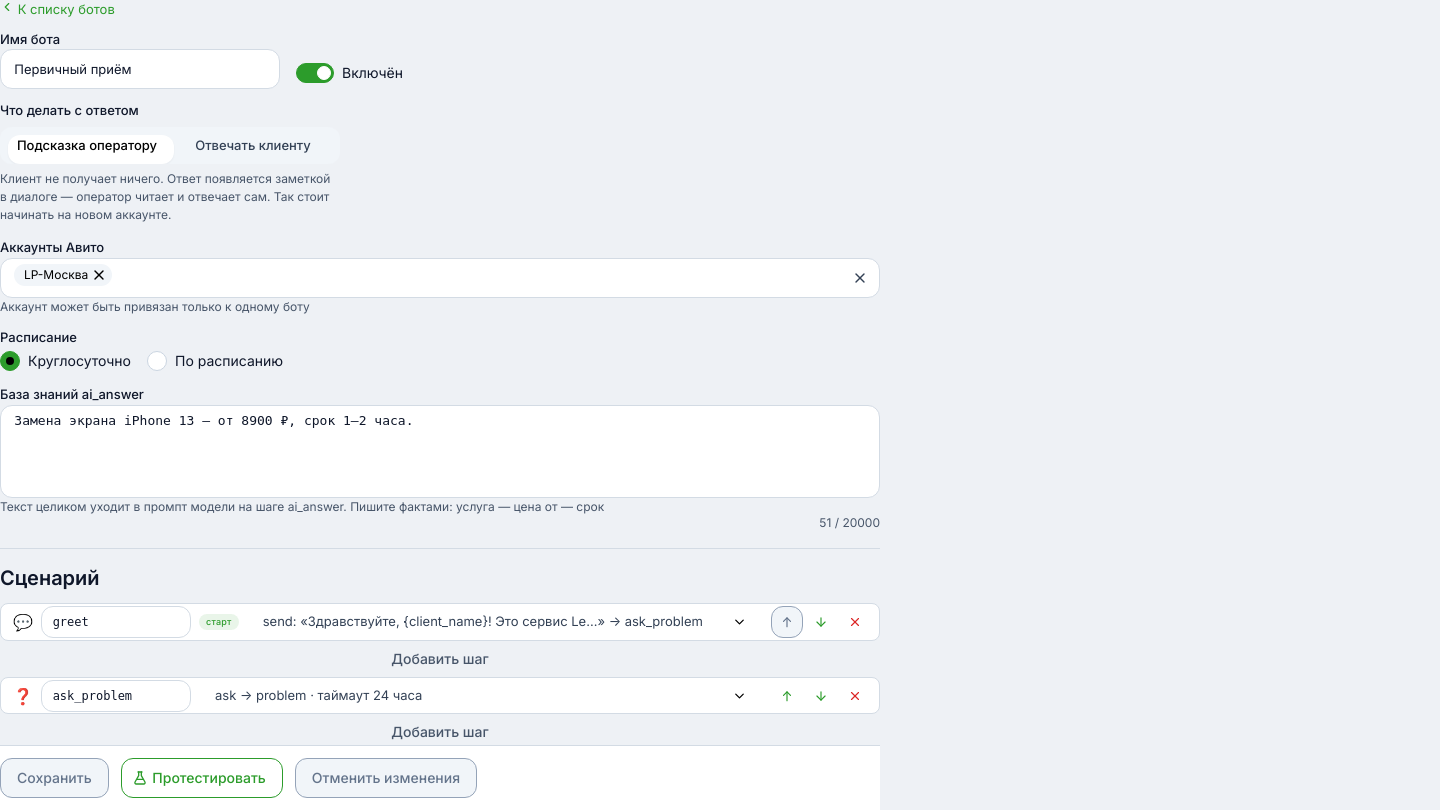
Редактор бота — уход с несохранённым сценарием › «К списку ботов» с несохранённым спрашивает, «Остаться» держит на странице
The image size is (1440, 810).
Type " — правка" into the field labelled "Имя бота" at (140, 69), box [0, 49, 280, 89]
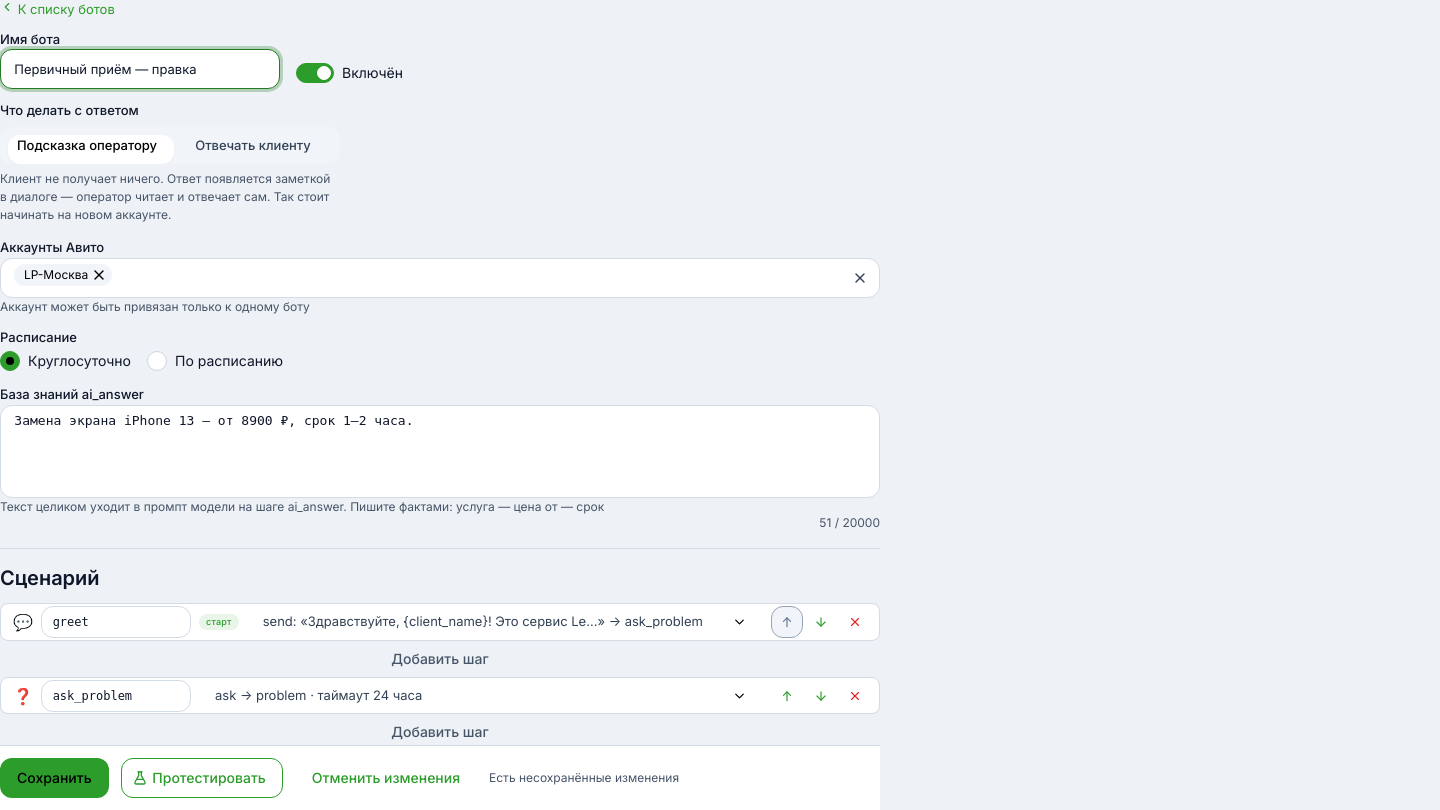
Check: the text "Есть несохранённые изменения" is shown, box [489, 769, 679, 787]
Click the link "К списку ботов" at (57, 8), box [0, 0, 115, 17]
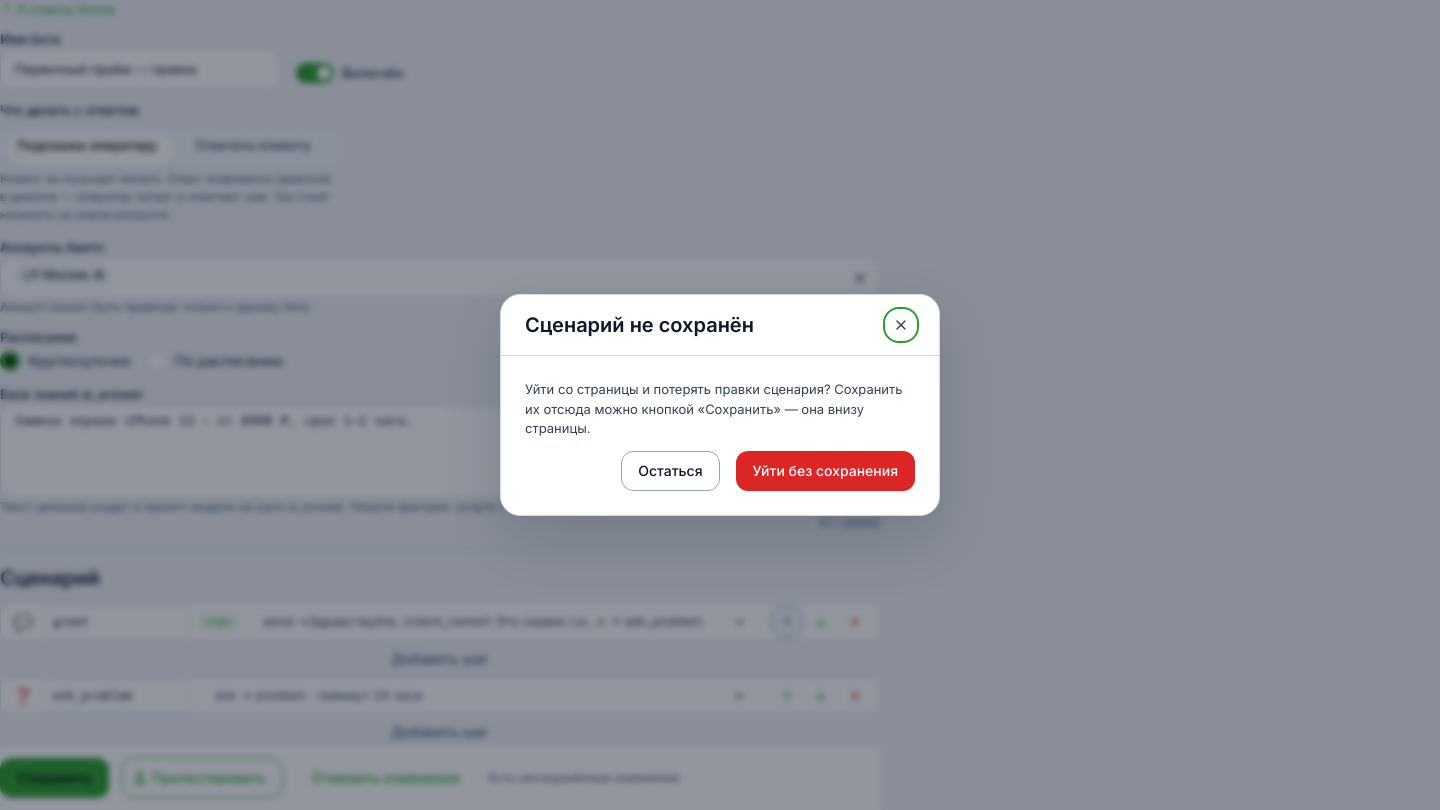
Check: the text "Уйти со страницы и потерять правки сценария?" is shown, box [525, 381, 903, 436]
Click the button "Остаться" at (670, 471), box [621, 451, 720, 491]
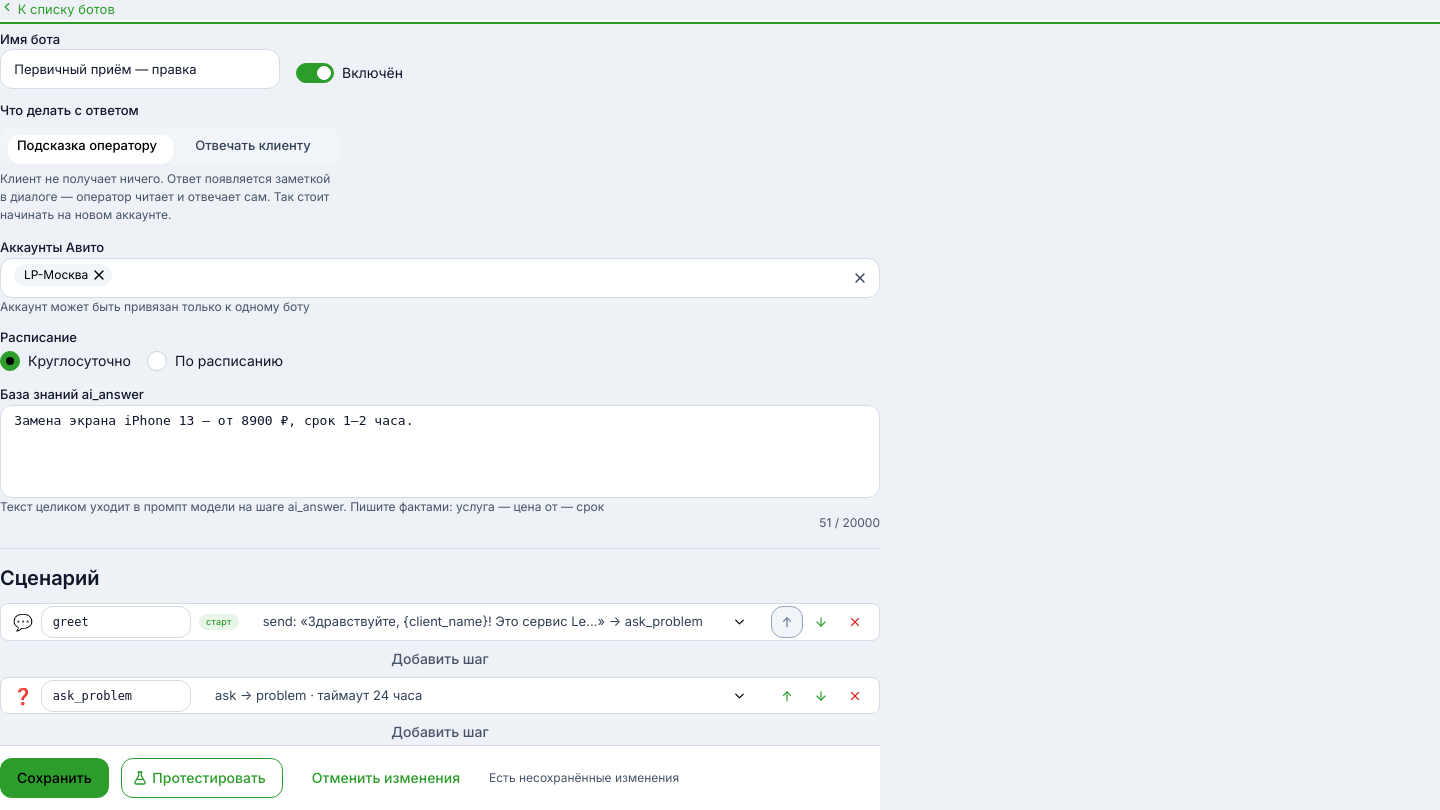
Check: the field labelled "Имя бота" holds "Первичный приём — правка", box [0, 49, 280, 89]
Check: the text "Уйти со страницы и потерять правки сценария?" is gone
